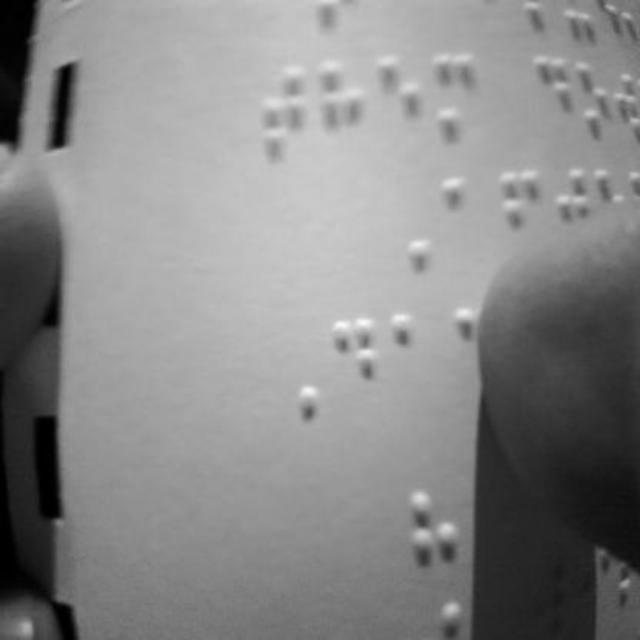braiile: (327, 304, 385, 412), (392, 306, 444, 409), (317, 56, 367, 158), (260, 57, 306, 161), (375, 50, 421, 150), (434, 45, 478, 141)
